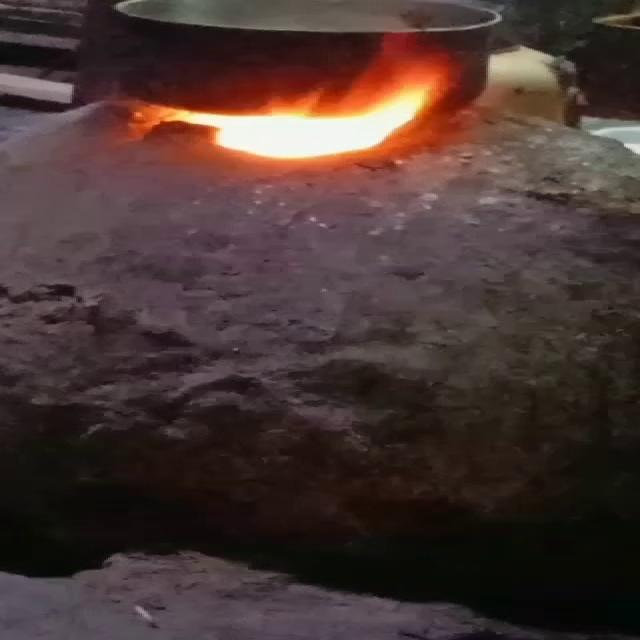Fire: (166, 87, 426, 160)
